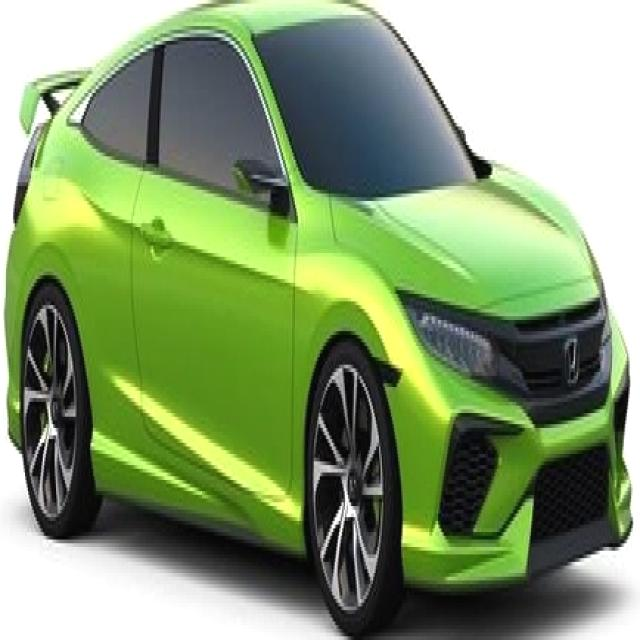green: (4, 2, 631, 636)
